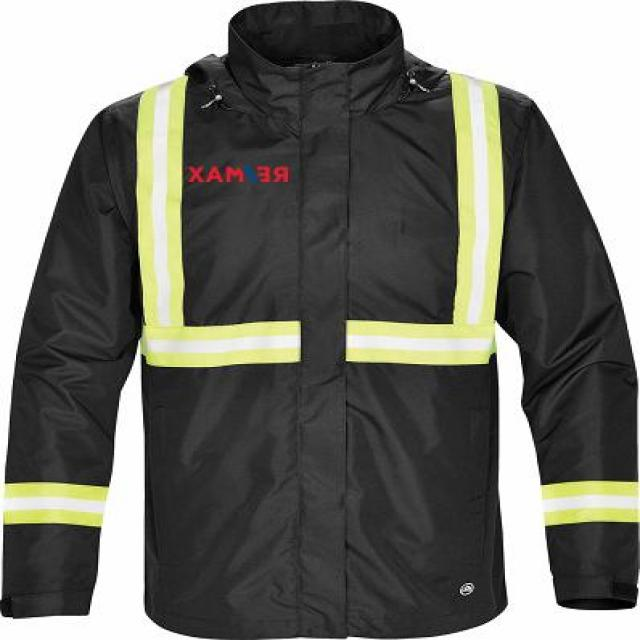Reflective-Jacket: (63, 10, 609, 640)
